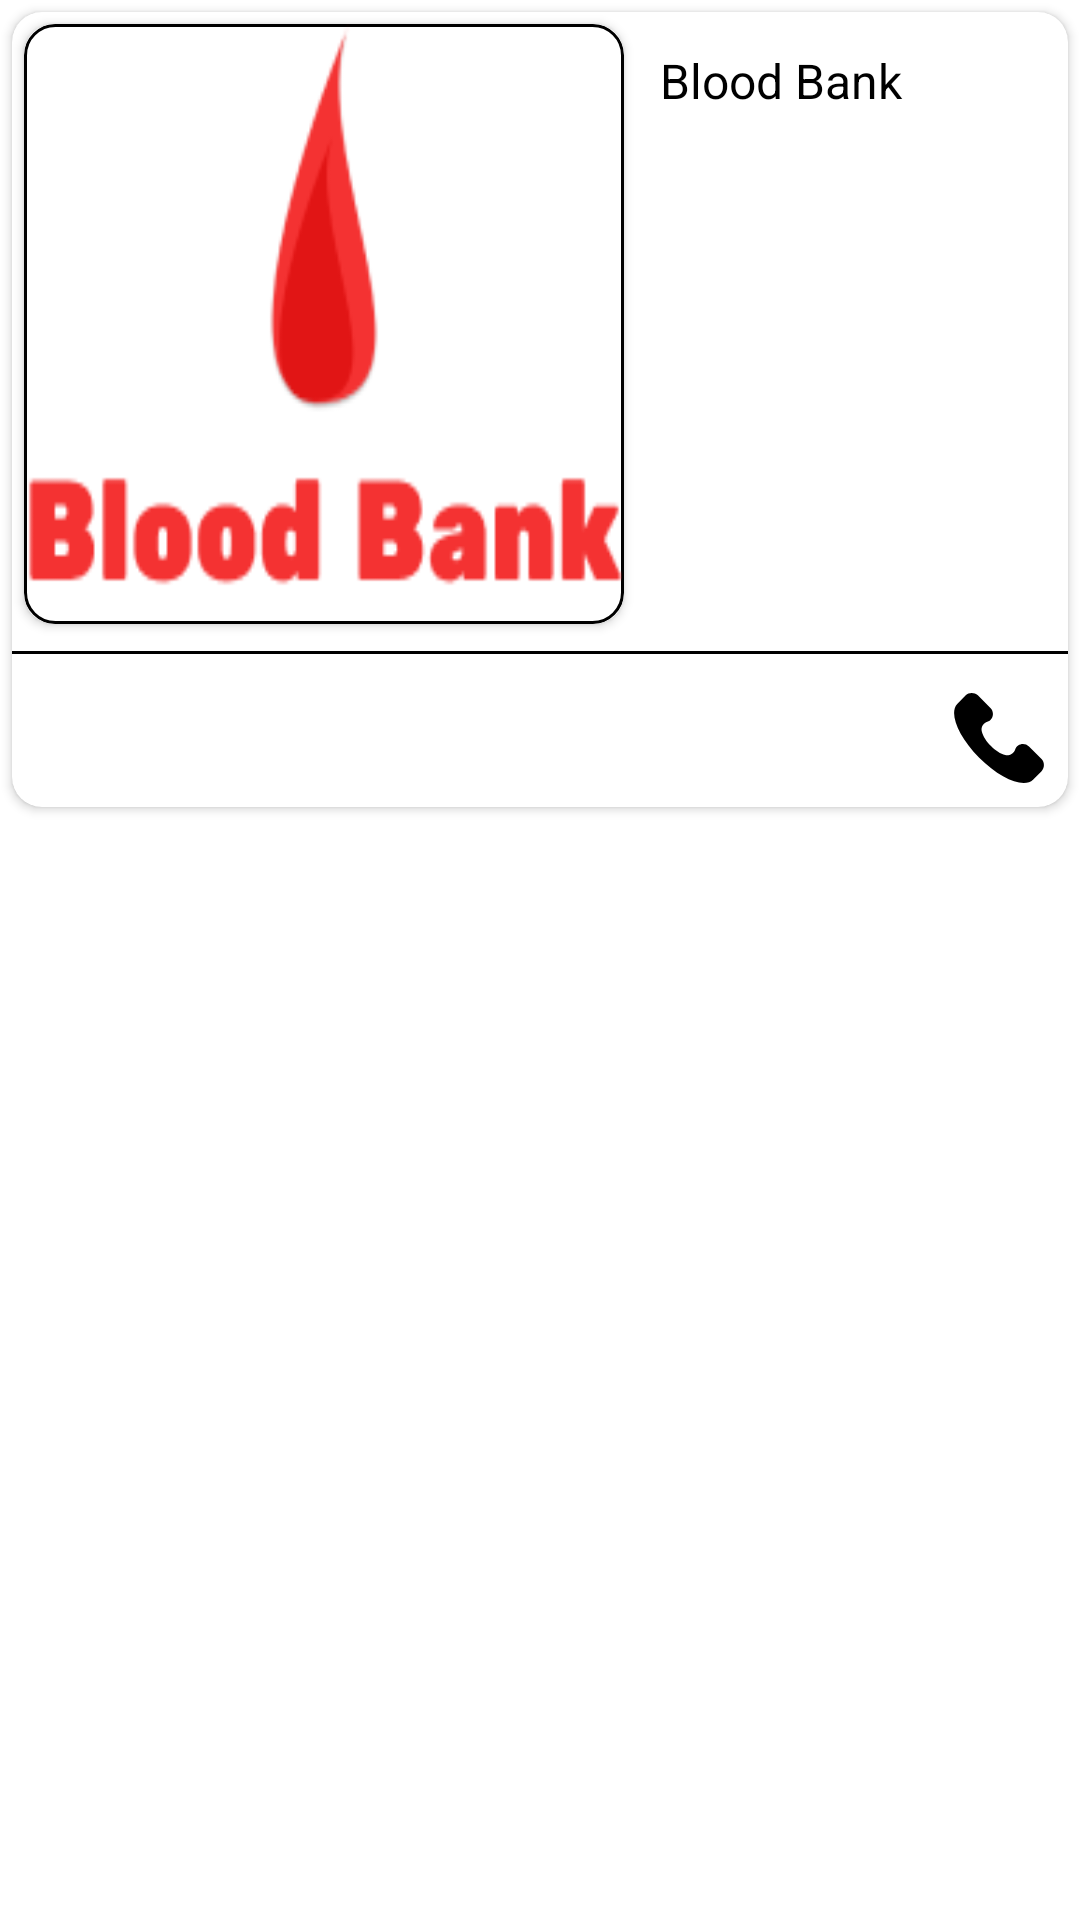

Where icons sit on this 1080w x 1920h app screen, as (x1,y1,x2,y2):
phone call: (954,693,1044,783)
